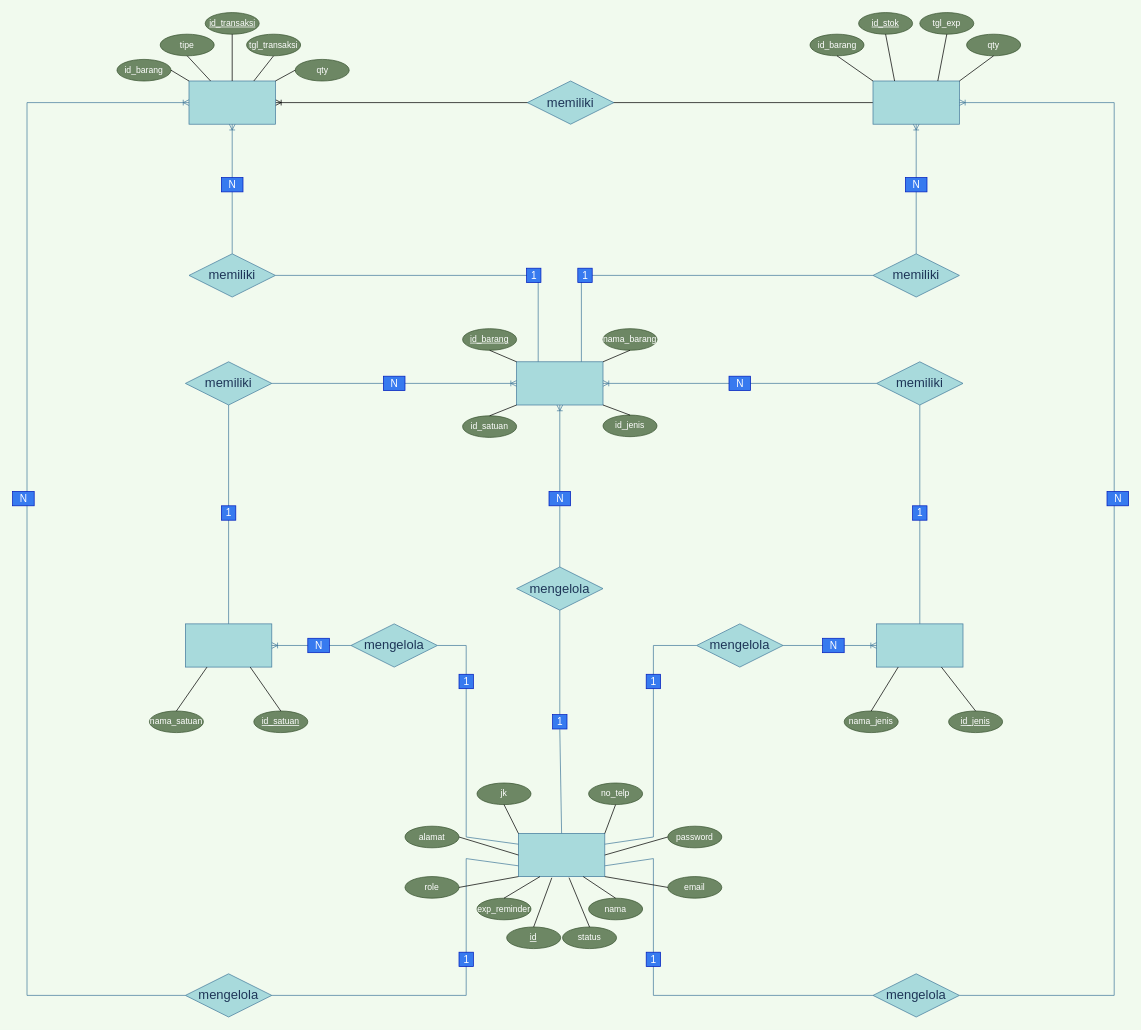
The diagram is 1141 pixels wide and 1030 high, and some of its shapes have lost their labels. Here are the shapes that lost their labels. From the top down, the centre of each, then its label:
(231,102): transaksi
(915,102): stok_barang
(559,383): data_barang
(228,645): satuan_barang
(919,645): jenis_barang
(561,855): users
